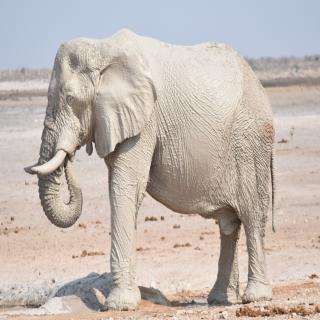Elephant: (22, 27, 284, 320)
